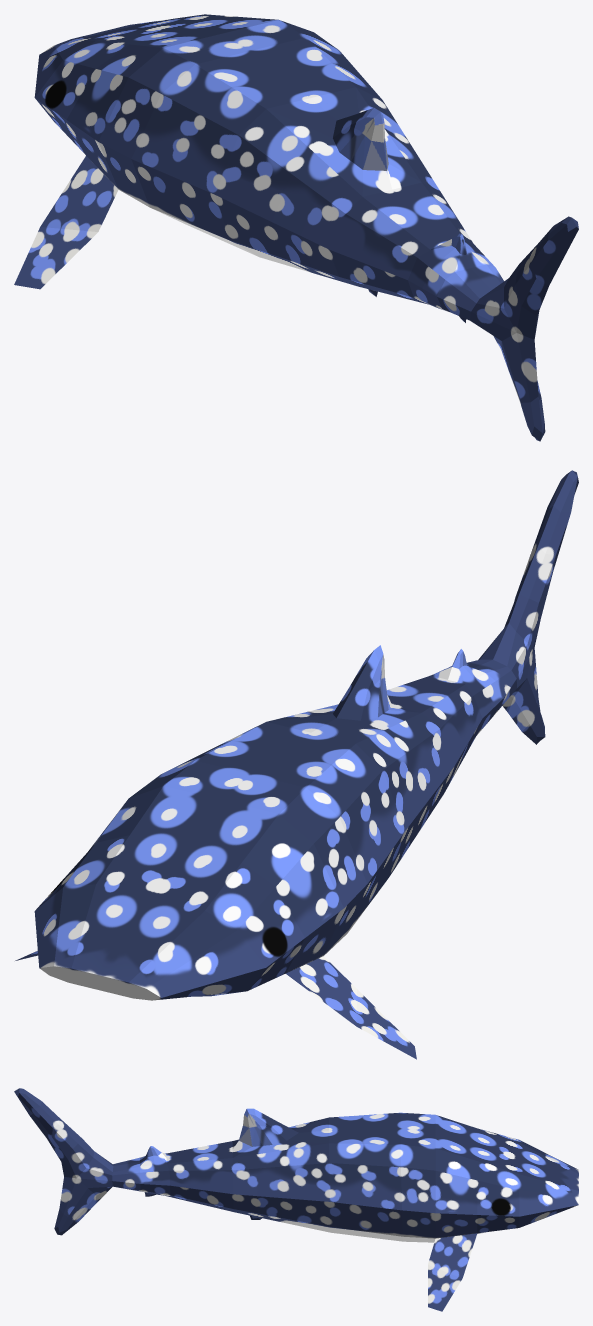
The model's file is WhaleSharkie.fbx.
The picture shows the model from 3 angles, top to bottom: view 1: azimuth 30°, elevation 25°; view 2: azimuth 150°, elevation 25°; view 3: azimuth 270°, elevation 25°; orthographic projection. The views are drawn at different scales.
Visible parts, largest first — view 1: Cube.002; view 2: Cube.002; view 3: Cube.002.
Boxes of the visible parts, left/top/right/bottom form: Cube.002: left=14, top=14, right=578, bottom=441; Cube.002: left=15, top=470, right=578, bottom=1059; Cube.002: left=14, top=1088, right=578, bottom=1311.
Size of the model in its own units: 173 by 114 by 354.
Materials: 1 (1 with a texture image).
